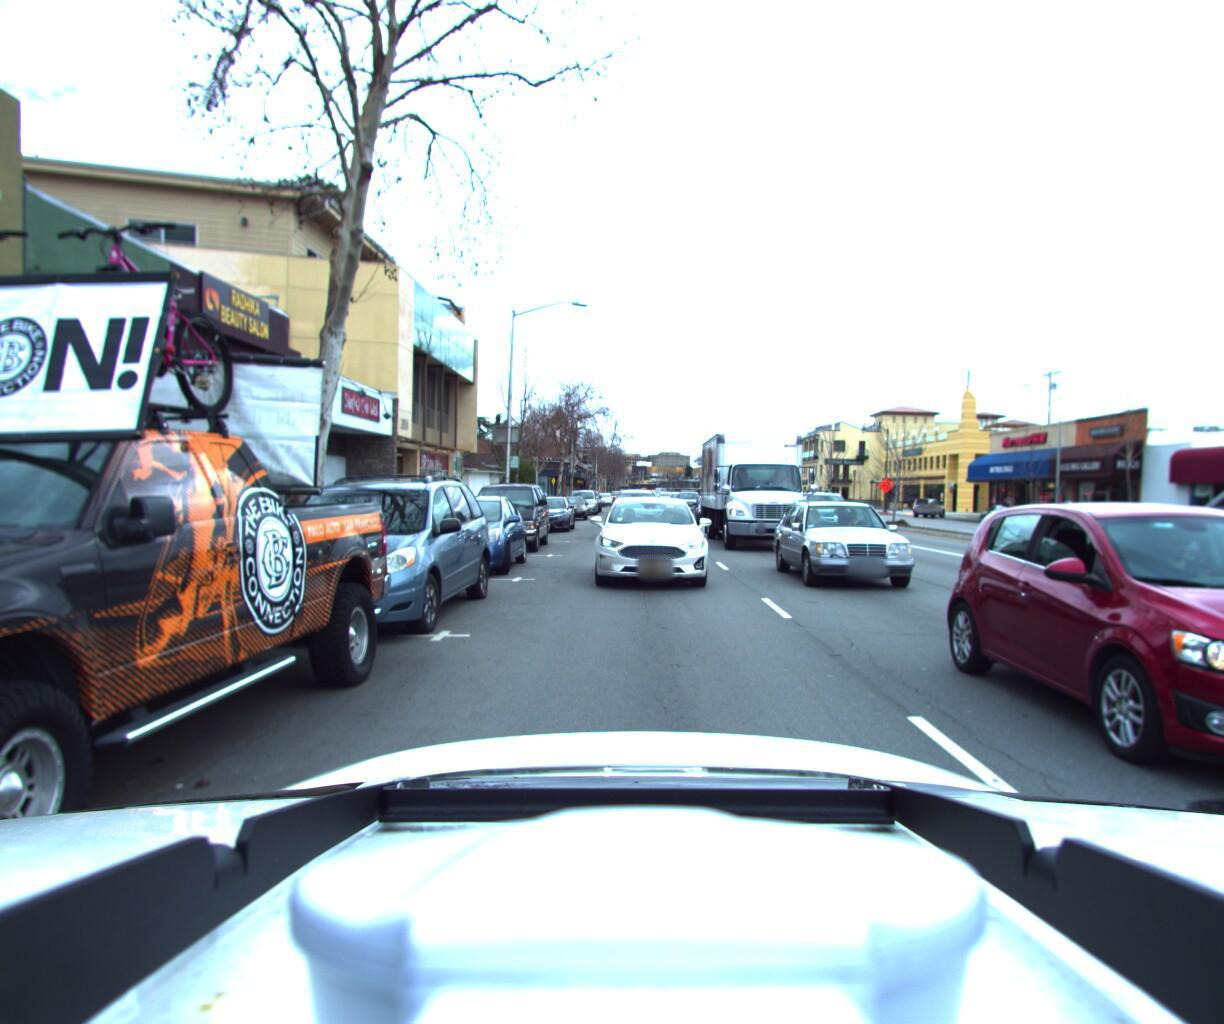car: (0, 0, 411, 1024), (964, 491, 1224, 896), (216, 463, 495, 653), (1156, 410, 1224, 819), (763, 496, 940, 606), (585, 492, 711, 603), (392, 496, 526, 587), (454, 483, 549, 563), (782, 493, 863, 546), (605, 493, 660, 551), (1073, 516, 1153, 547), (518, 500, 571, 542), (686, 498, 730, 538), (1009, 511, 1076, 537), (976, 511, 1026, 533), (908, 503, 951, 525), (563, 495, 596, 523), (672, 496, 702, 524), (553, 501, 585, 528)
truck: (688, 424, 838, 565)
